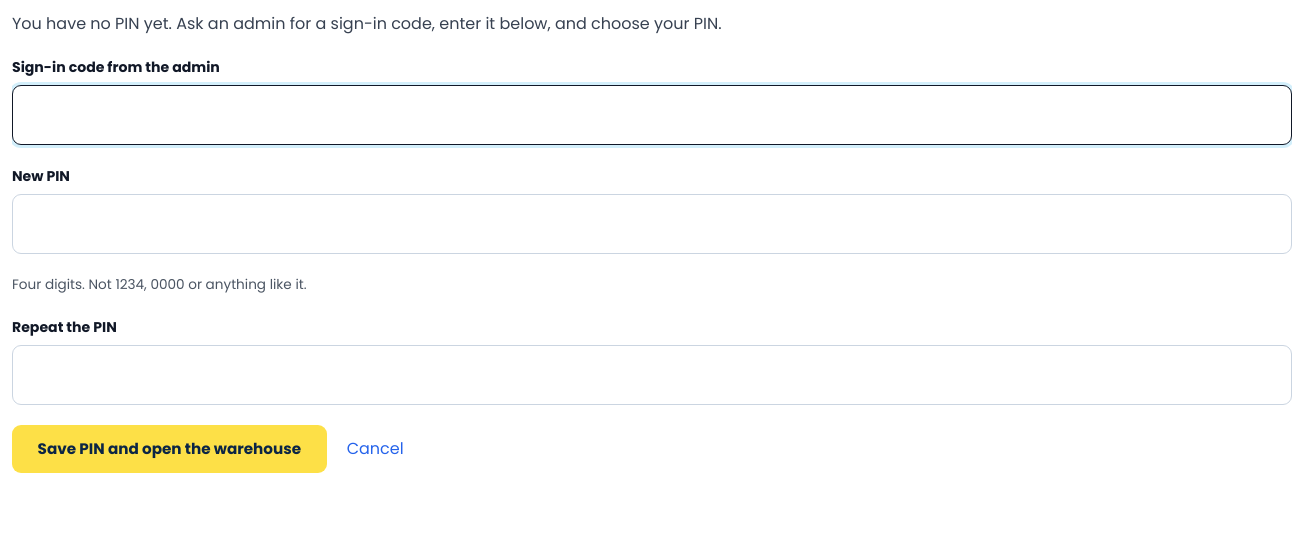
Test: setting a PIN on the profile page › catches two different PINs before anything is sent
This screenshot has width=1304, height=556.
Step 1. Type "4821" into the field labelled "Sign-in code from the admin" → (652, 115), box 12,85 -> 1292,145
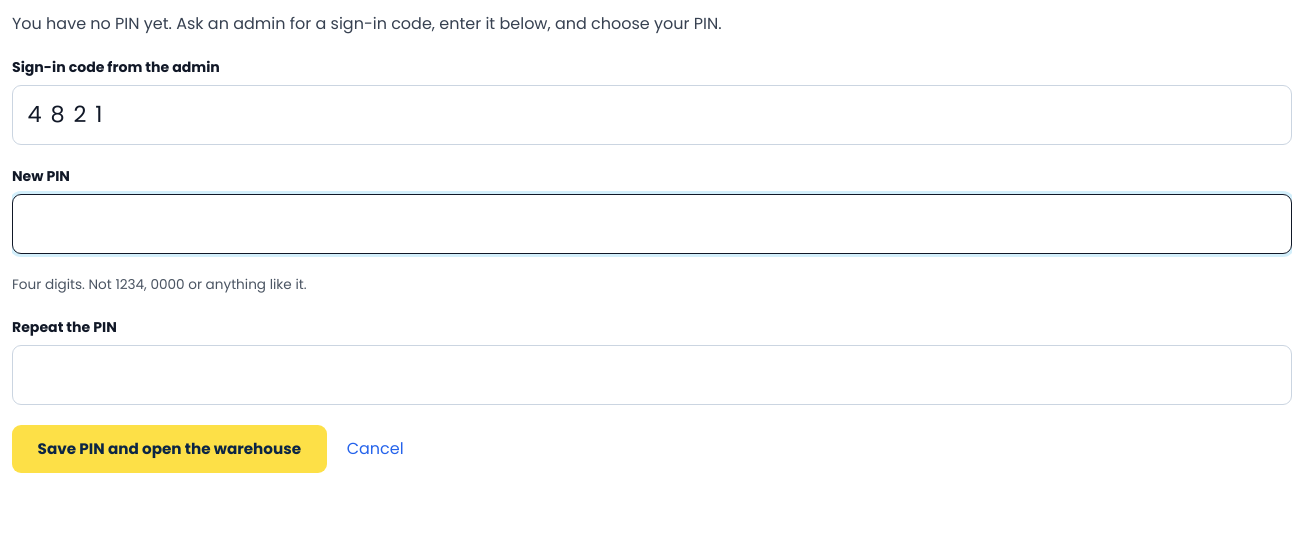
Step 2. Type "5937" into the password field labelled "New PIN" → (652, 224), box 12,194 -> 1292,254
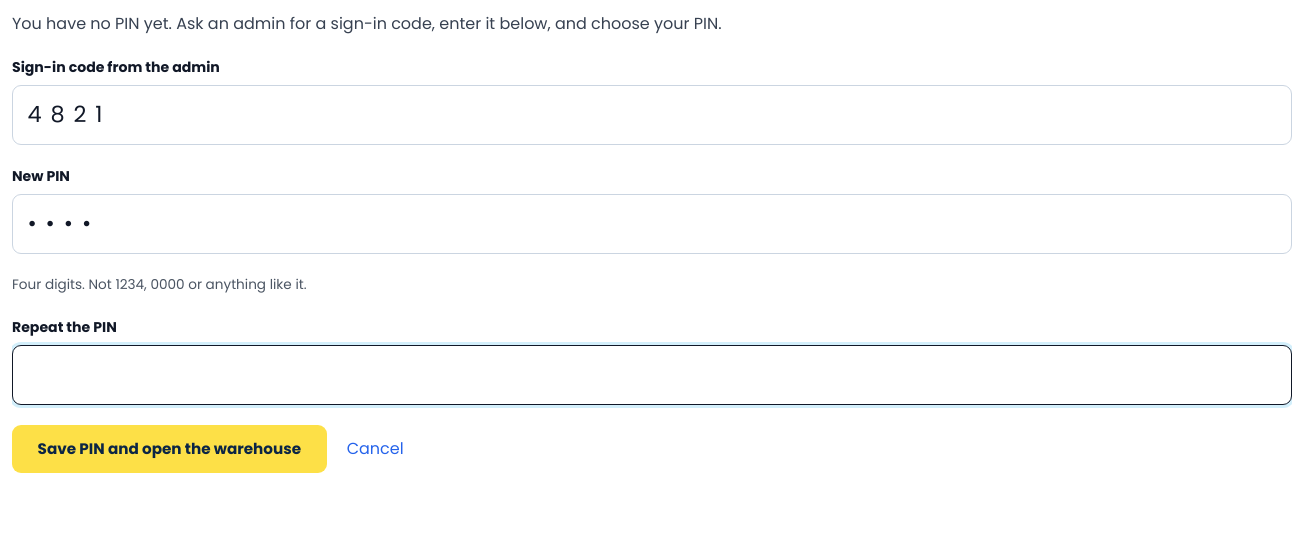
Step 3. Type "5938" into the password field labelled "Repeat the PIN" → (652, 375), box 12,345 -> 1292,405
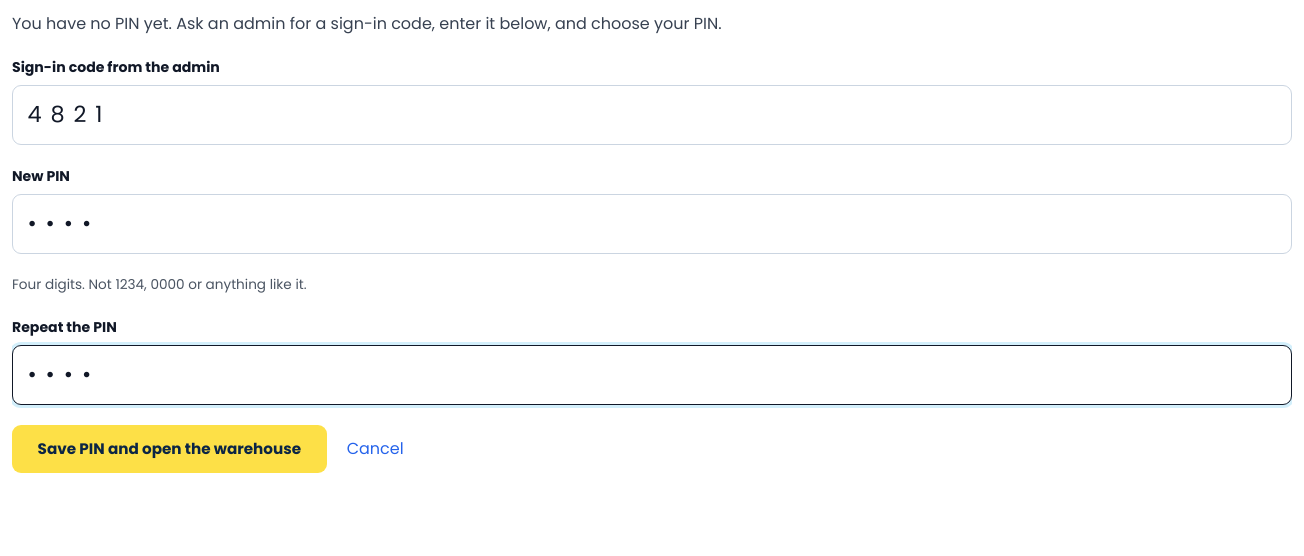
Step 4. Click the button "Save PIN and open the warehouse" → (169, 449), box 12,425 -> 327,473
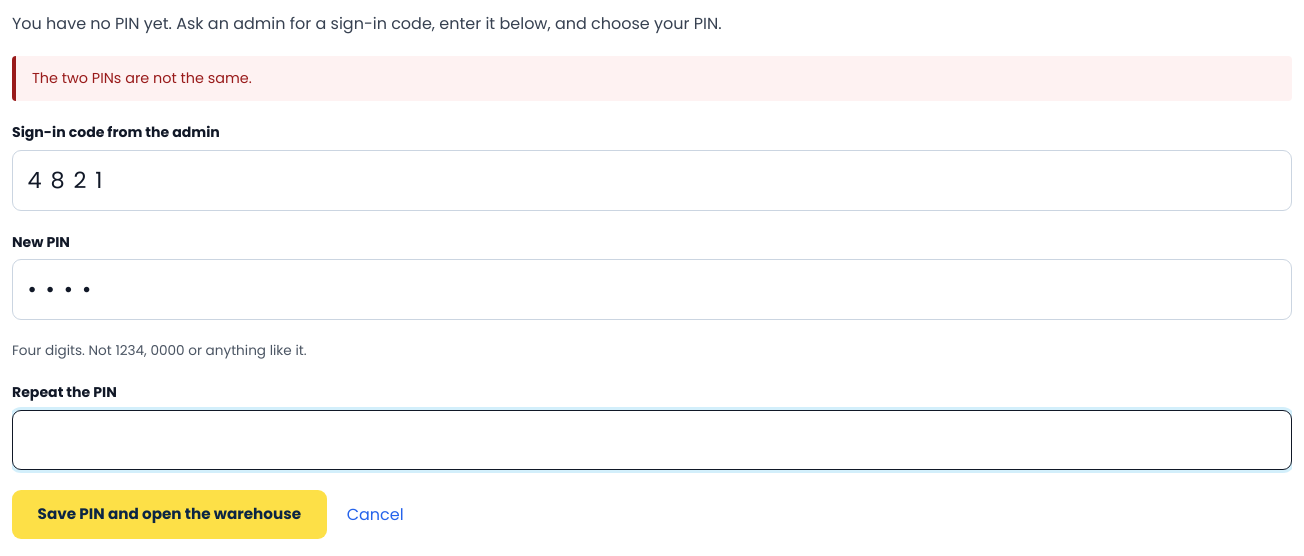
expect the message "The two PINs are not the same." is shown: met, box 12,56 -> 1292,101
